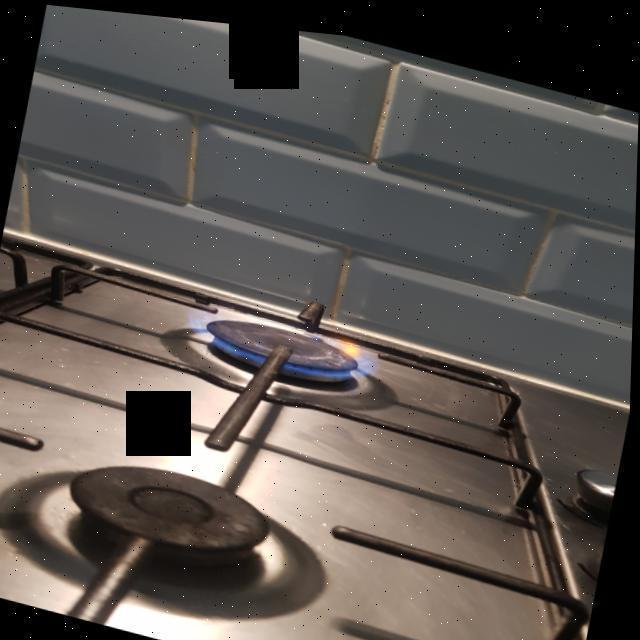Flame: (199, 302, 389, 392)
